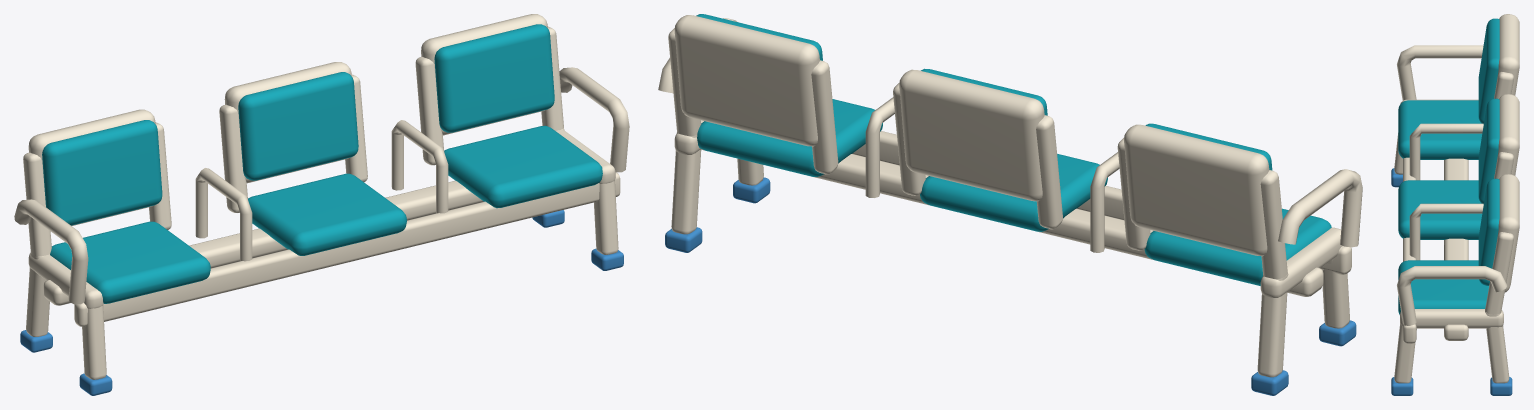
File: Reception_Linked_Seats_3.glb
3 renders of one model, left to right at view 1: azimuth 30°, elevation 25°; view 2: azimuth 150°, elevation 25°; view 3: azimuth 270°, elevation 25°, orthographic. The views are drawn at different scales.
Parts seen in each view (by area): view 1: Reception_Linked_Seats_3__Visual; view 2: Reception_Linked_Seats_3__Visual; view 3: Reception_Linked_Seats_3__Visual.
Boxes of the visible parts, x1,y1,x2,y2 form: Reception_Linked_Seats_3__Visual: (14, 14, 629, 395); Reception_Linked_Seats_3__Visual: (658, 14, 1362, 395); Reception_Linked_Seats_3__Visual: (1391, 14, 1519, 395).
Bounding box in the file's own units: 2.61 × 0.9238 × 0.6243.
Materials: 1 (1 with a texture image).
